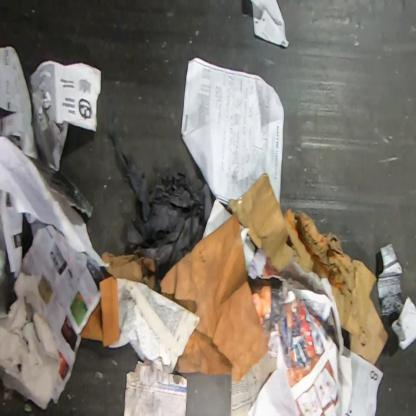cardboard: (228, 171, 388, 365), (160, 212, 269, 380), (80, 277, 120, 348), (102, 252, 157, 289)
soft_plastic: (110, 128, 216, 294)
